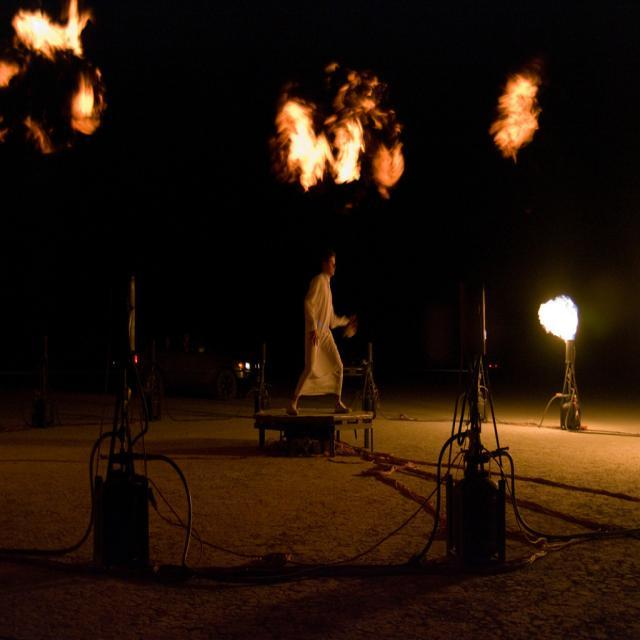Fire: (286, 106, 360, 178), (16, 6, 76, 47), (544, 287, 580, 342), (500, 82, 531, 136)
